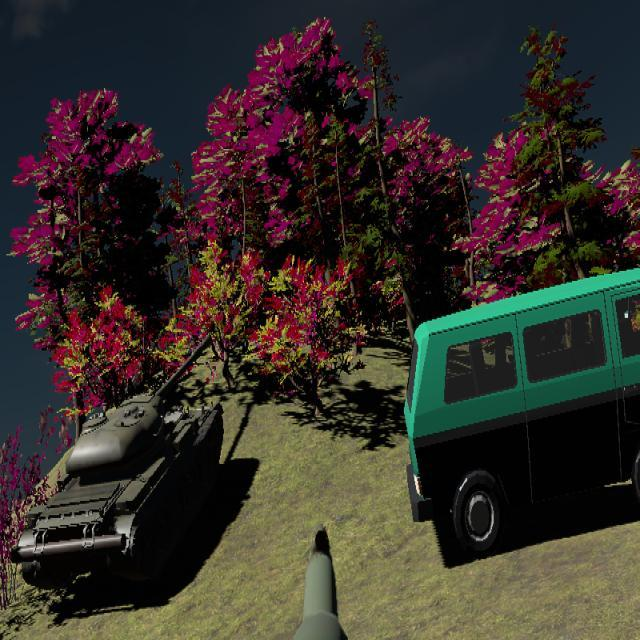Tank: (13, 335, 225, 590)
car: (402, 263, 640, 553)
